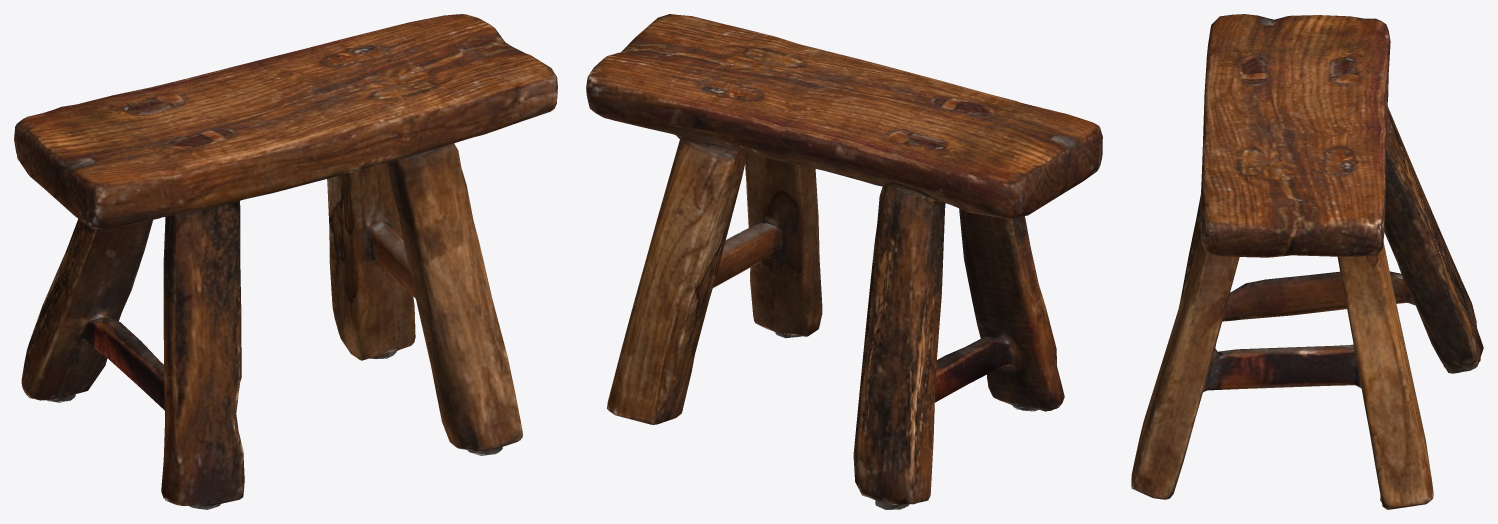
File: stool_low.glb
3 views of the same model, side by side, from view 1: azimuth 30°, elevation 25°; view 2: azimuth 150°, elevation 25°; view 3: azimuth 270°, elevation 25° (orthographic). The views are drawn at different scales.
Visible parts, largest first — view 1: wooden_stool_02; view 2: wooden_stool_02; view 3: wooden_stool_02.
Boxes of the visible parts, <box> form: wooden_stool_02: <box>14,14,557,509</box>; wooden_stool_02: <box>586,14,1102,509</box>; wooden_stool_02: <box>1131,14,1483,509</box>.
Bounding box in the file's own units: 0.2651 × 0.1821 × 0.1832.
Materials: 1 (1 with a texture image).
